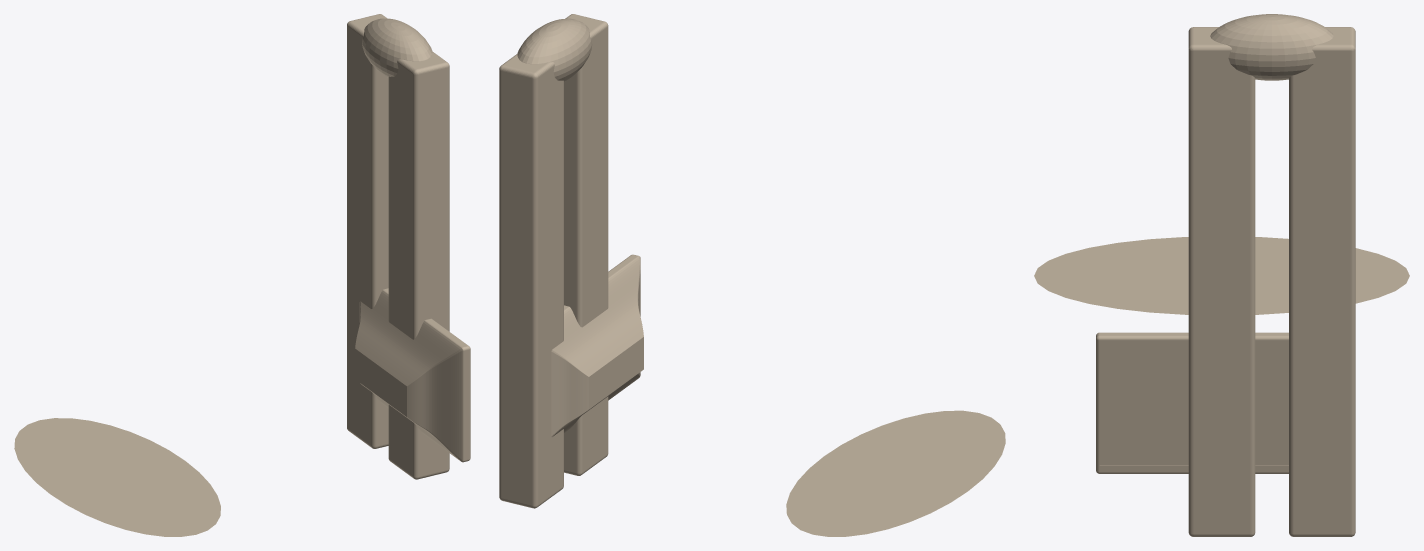
Rendered from 3dcodebench_Monitor_seed0_L3_Q2__qwen3.6-35b-a3b.glb.
The picture shows the model from 3 angles, left to right: view 1: azimuth 30°, elevation 25°; view 2: azimuth 150°, elevation 25°; view 3: azimuth 270°, elevation 25°; orthographic projection. The views are drawn at different scales.
Parts seen in each view (by area): view 1: object; view 2: object; view 3: object.
Part boxes in pixels (x1,y1,x2,y2): object: [14, 14, 470, 536]; object: [499, 14, 1005, 536]; object: [1034, 14, 1409, 536].
Size of the model in its own units: 1.31 by 1.35 by 0.9.
